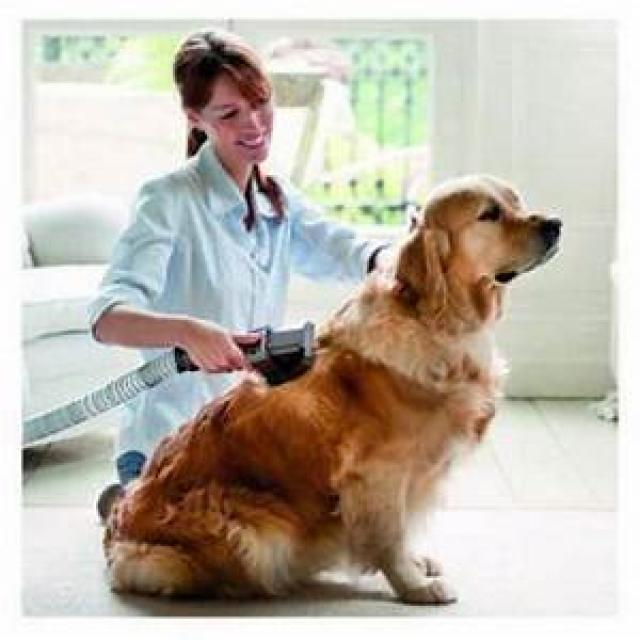dog: (98, 173, 561, 606)
